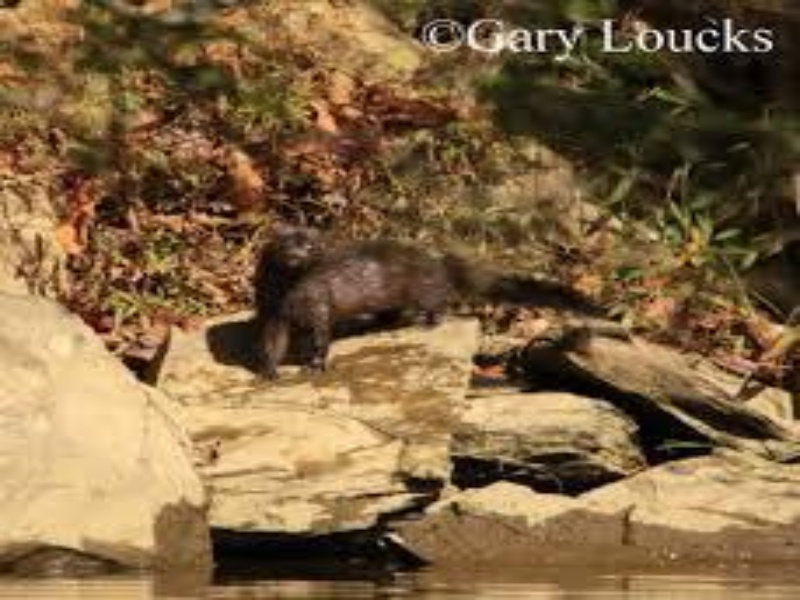minkish: (247, 220, 615, 387)
